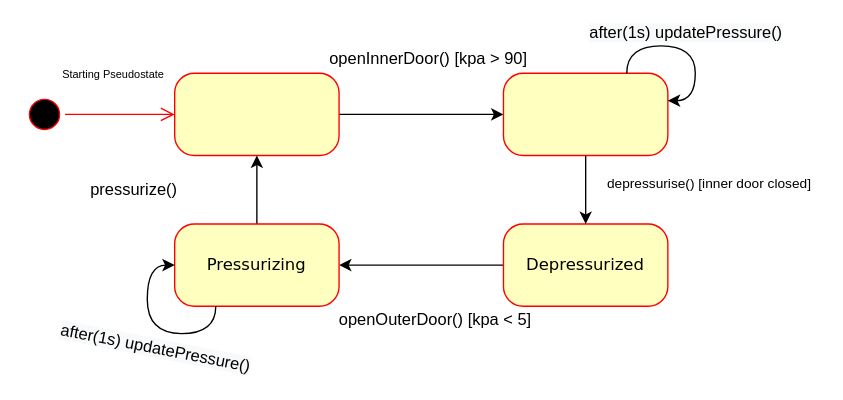
Image size: 843x400. Some labels were removed from this diagram. The centre of each missing label's shape, as x and y in pixels:
"Depressurizing" goes at (585,113).
"Pressurized" goes at (256,113).
